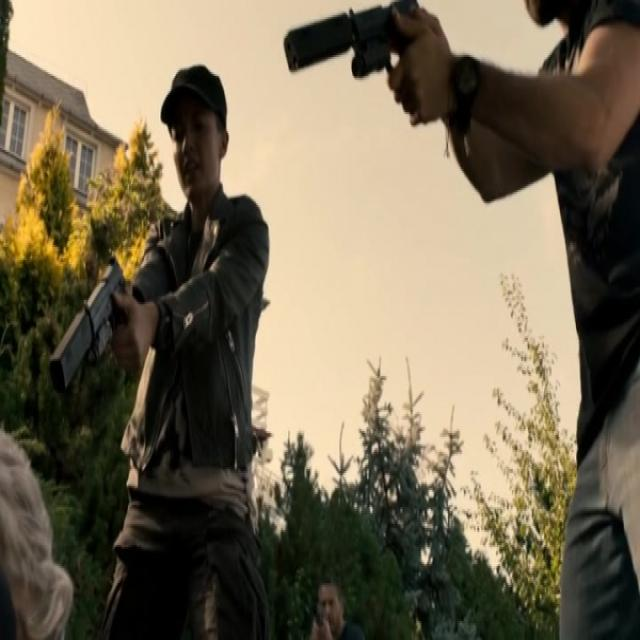weapons: (276, 0, 446, 124), (33, 239, 144, 410)
